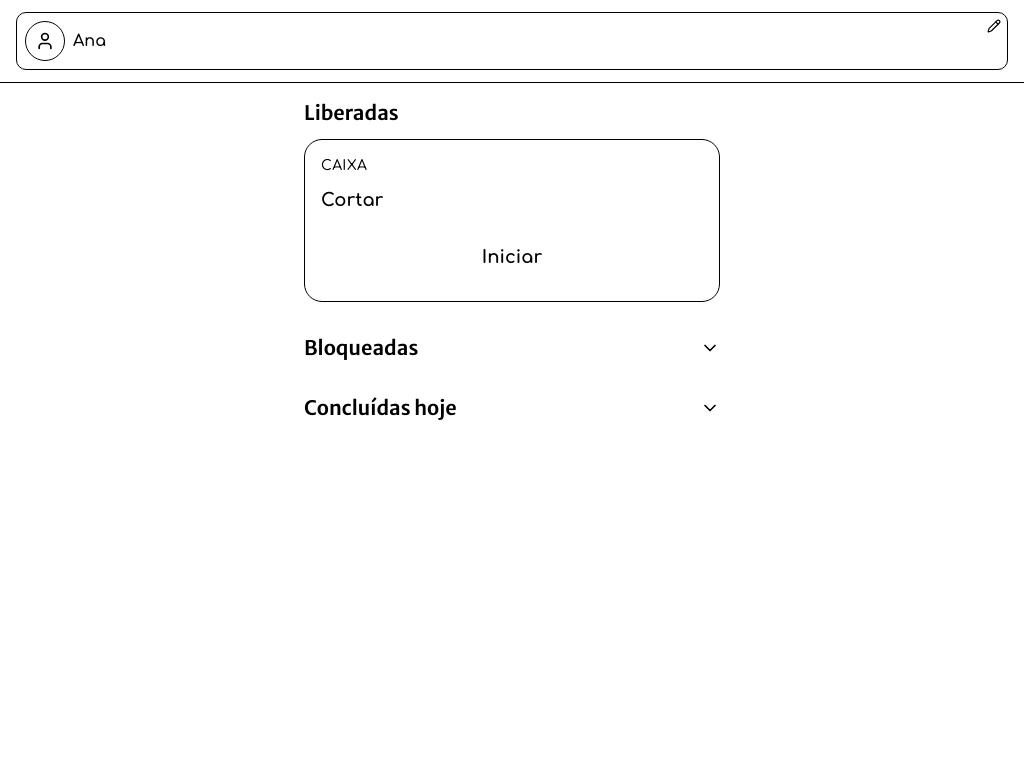
Scenario: KioskPanelClient › keeps the elapsed clock running after the exit button appears
The width and height of the screenshot is (1024, 768).
Click the button "Iniciar": (512, 257) [321, 229, 703, 285]
Wait 5000 ms
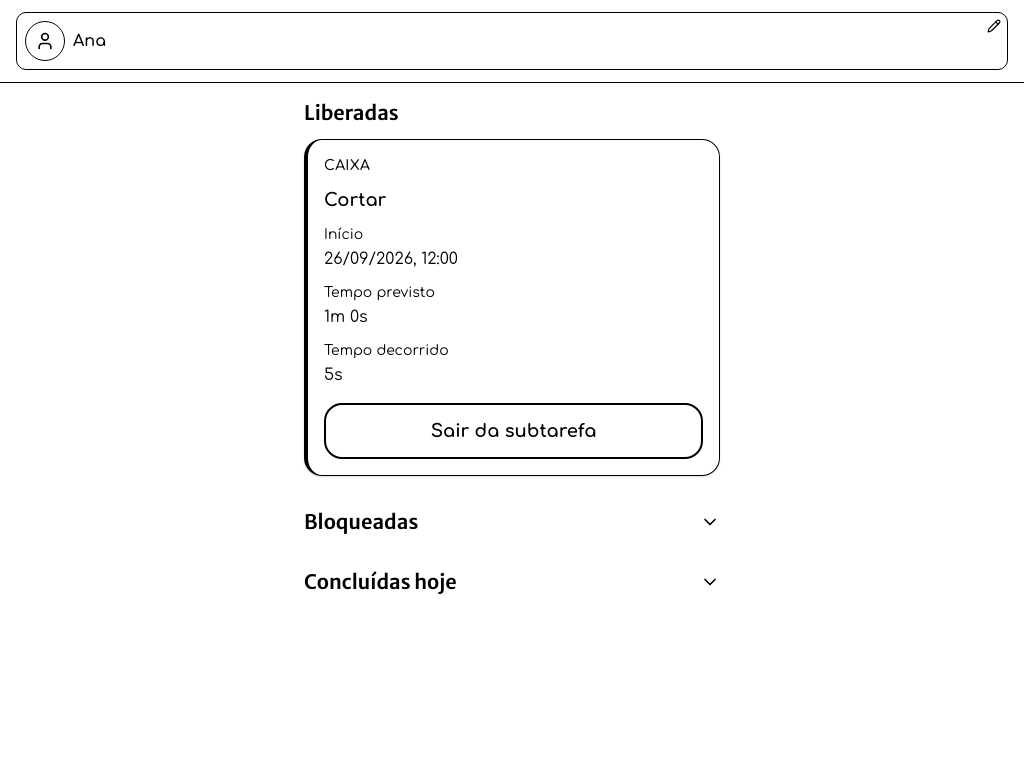
Now the button "Sair da subtarefa" is shown, box [324, 403, 703, 459]
Now the text "5s" is shown, box [324, 366, 343, 384]
